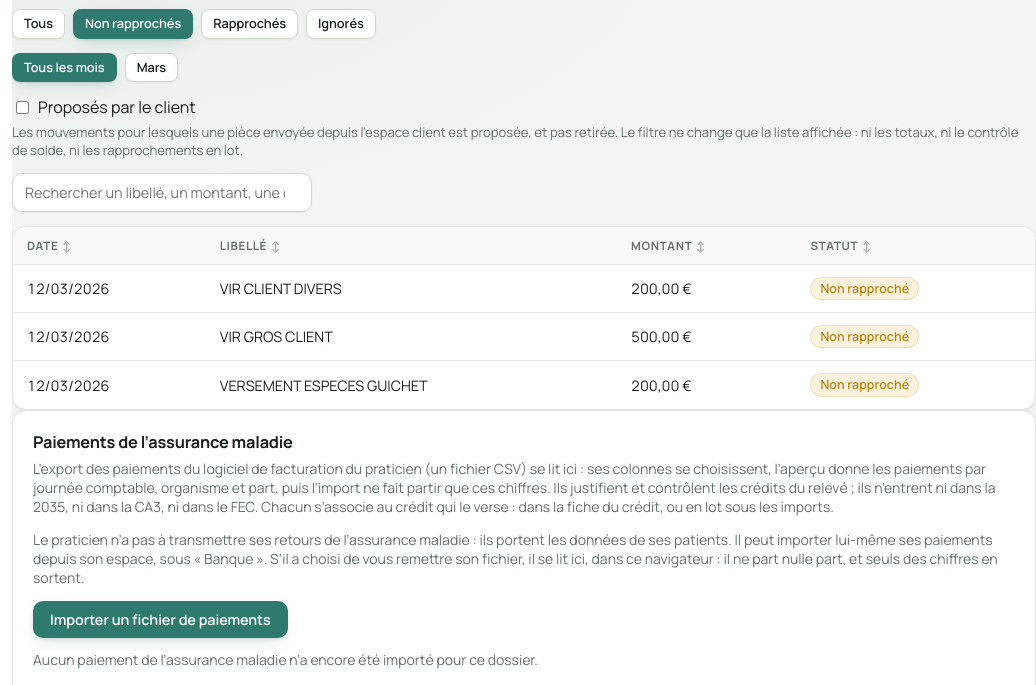
un dossier en comptabilité d’engagement : la caisse ne se tient pas, la fiche n’en dit rien › ni proposition de versement, ni solde, ni alerte sur un libellé de versement, même la caisse en base
(page scrolled)
Click the row "12/03/2026 VERSEMENT ESPECES GUICHET 200,00 € Non rapproché": (68, 385) [13,361,1035,409]
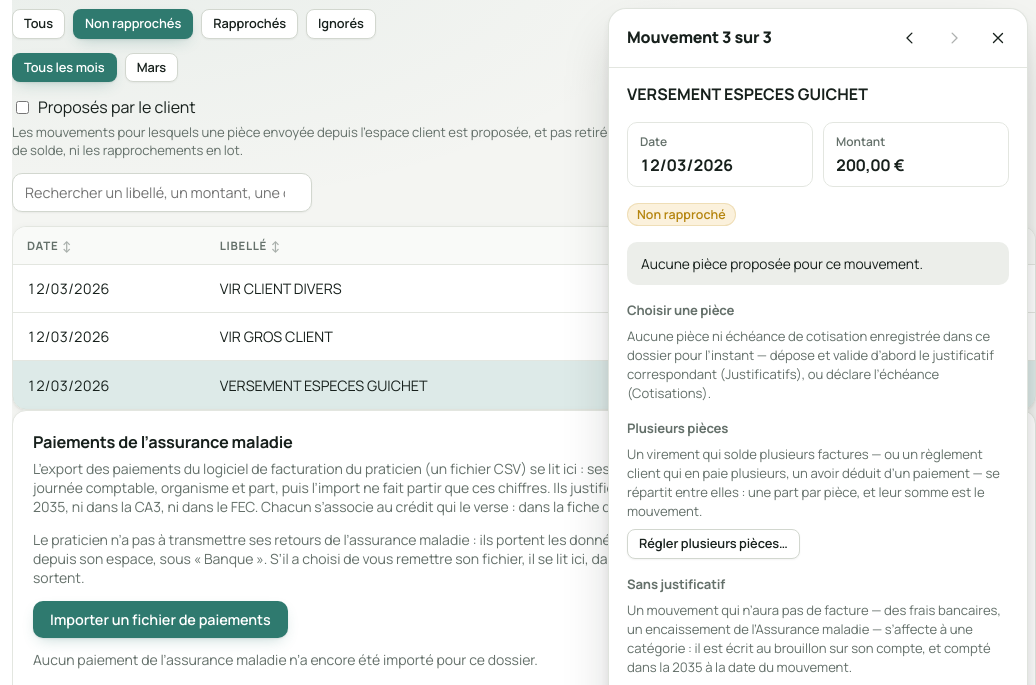
Check: the heading "Sans justificatif" is shown, box [627,575,725,593]
